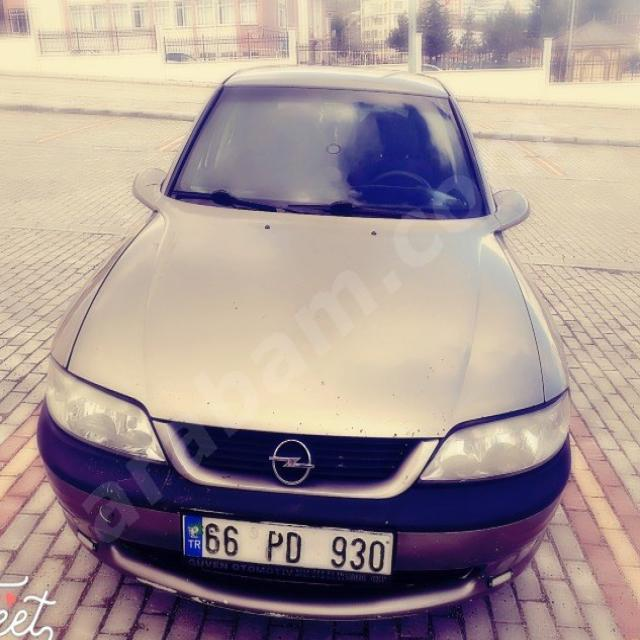license_plate: (181, 512, 392, 575)
